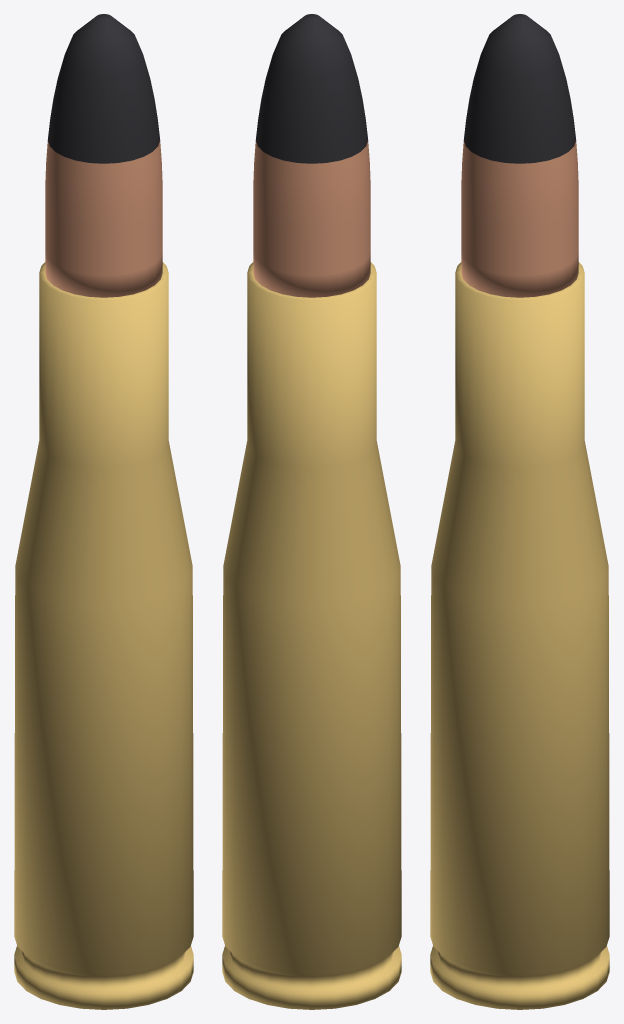
3 renders of one model, left to right at view 1: azimuth 30°, elevation 25°; view 2: azimuth 150°, elevation 25°; view 3: azimuth 270°, elevation 25°, orthographic.
Parts seen in each view (by area): view 1: vaina, bala_cuerpo, punta; view 2: vaina, bala_cuerpo, punta; view 3: vaina, bala_cuerpo, punta.
Boxes of the visible parts, box(x1,y1,x2,y2) form: vaina: box(14, 262, 193, 1009); bala_cuerpo: box(45, 140, 162, 297); punta: box(48, 14, 159, 163); vaina: box(222, 262, 401, 1009); bala_cuerpo: box(253, 140, 370, 297); punta: box(256, 14, 367, 163); vaina: box(430, 262, 609, 1009); bala_cuerpo: box(461, 140, 578, 297); punta: box(464, 14, 575, 163).
Size of the model in its own units: 0.0119 by 0.0699 by 0.0119.
